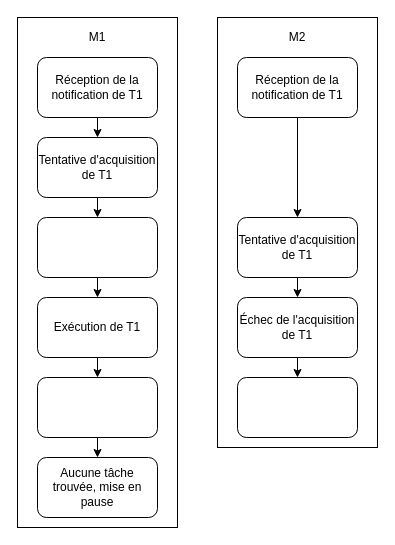
This 395x545 diagram has some shape labels left out. The shapes that lost their labels are listed below. From the top down, each one's centre as x and y in pixels, then its label:
At (x=97, y=247): "Succès de l'acquisition de T1".
At (x=97, y=407): "Recherche d'une autre tâche".
At (x=297, y=407): "Mise en pause".
